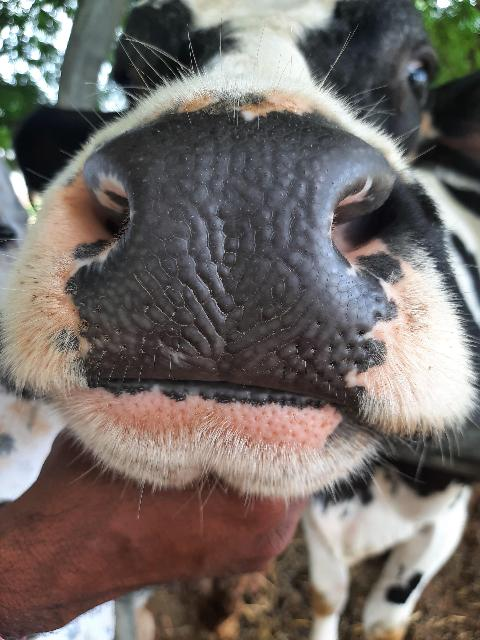Muzzle: (128, 131, 338, 391)
